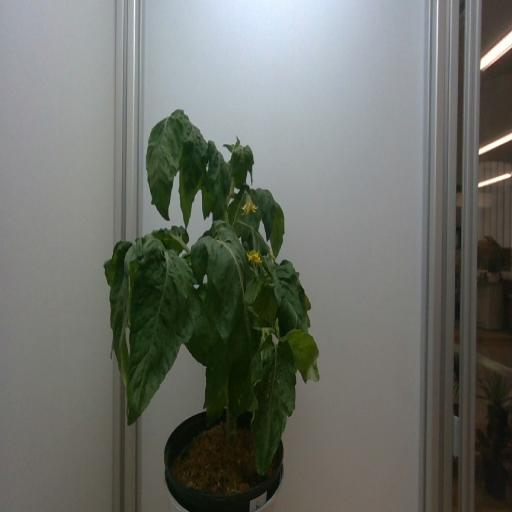Tomato-Leaves-Cupboard-: (120, 238, 196, 438), (248, 327, 296, 477), (189, 219, 245, 347), (224, 329, 274, 425), (145, 109, 185, 221), (103, 240, 130, 390), (182, 288, 233, 362), (280, 322, 326, 390), (193, 144, 228, 214), (275, 262, 314, 322), (200, 341, 232, 408), (174, 149, 198, 237), (222, 187, 263, 231), (184, 119, 206, 193), (247, 182, 275, 238), (270, 190, 288, 258), (236, 269, 268, 307), (250, 286, 282, 324), (152, 221, 191, 250), (232, 143, 253, 186)
